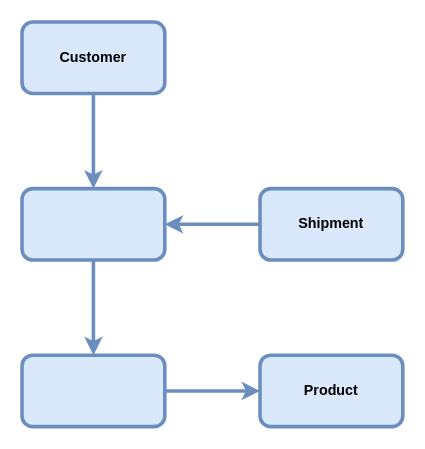
This 425x449 diagram has some shape labels left out. The shapes that lost their labels are listed below. From the top down, each one's centre as x and y in pixels, then its label:
the point at 93,223: Order
the point at 93,390: Order-line
